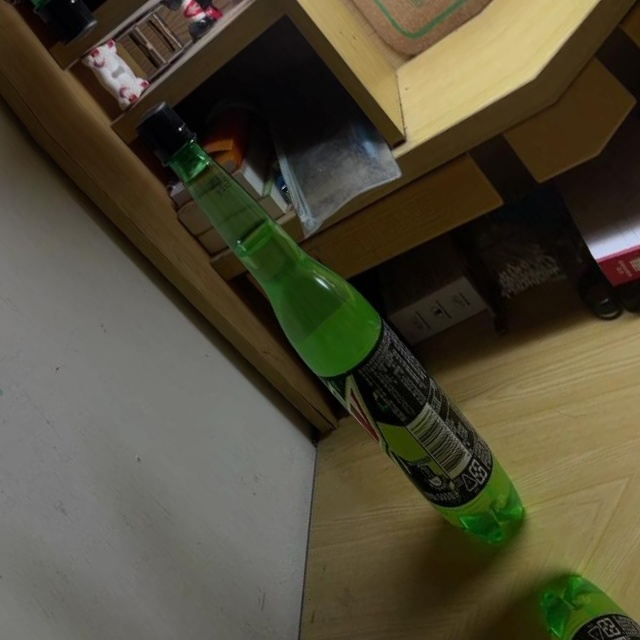Mountain-Dew: (116, 81, 545, 567)
